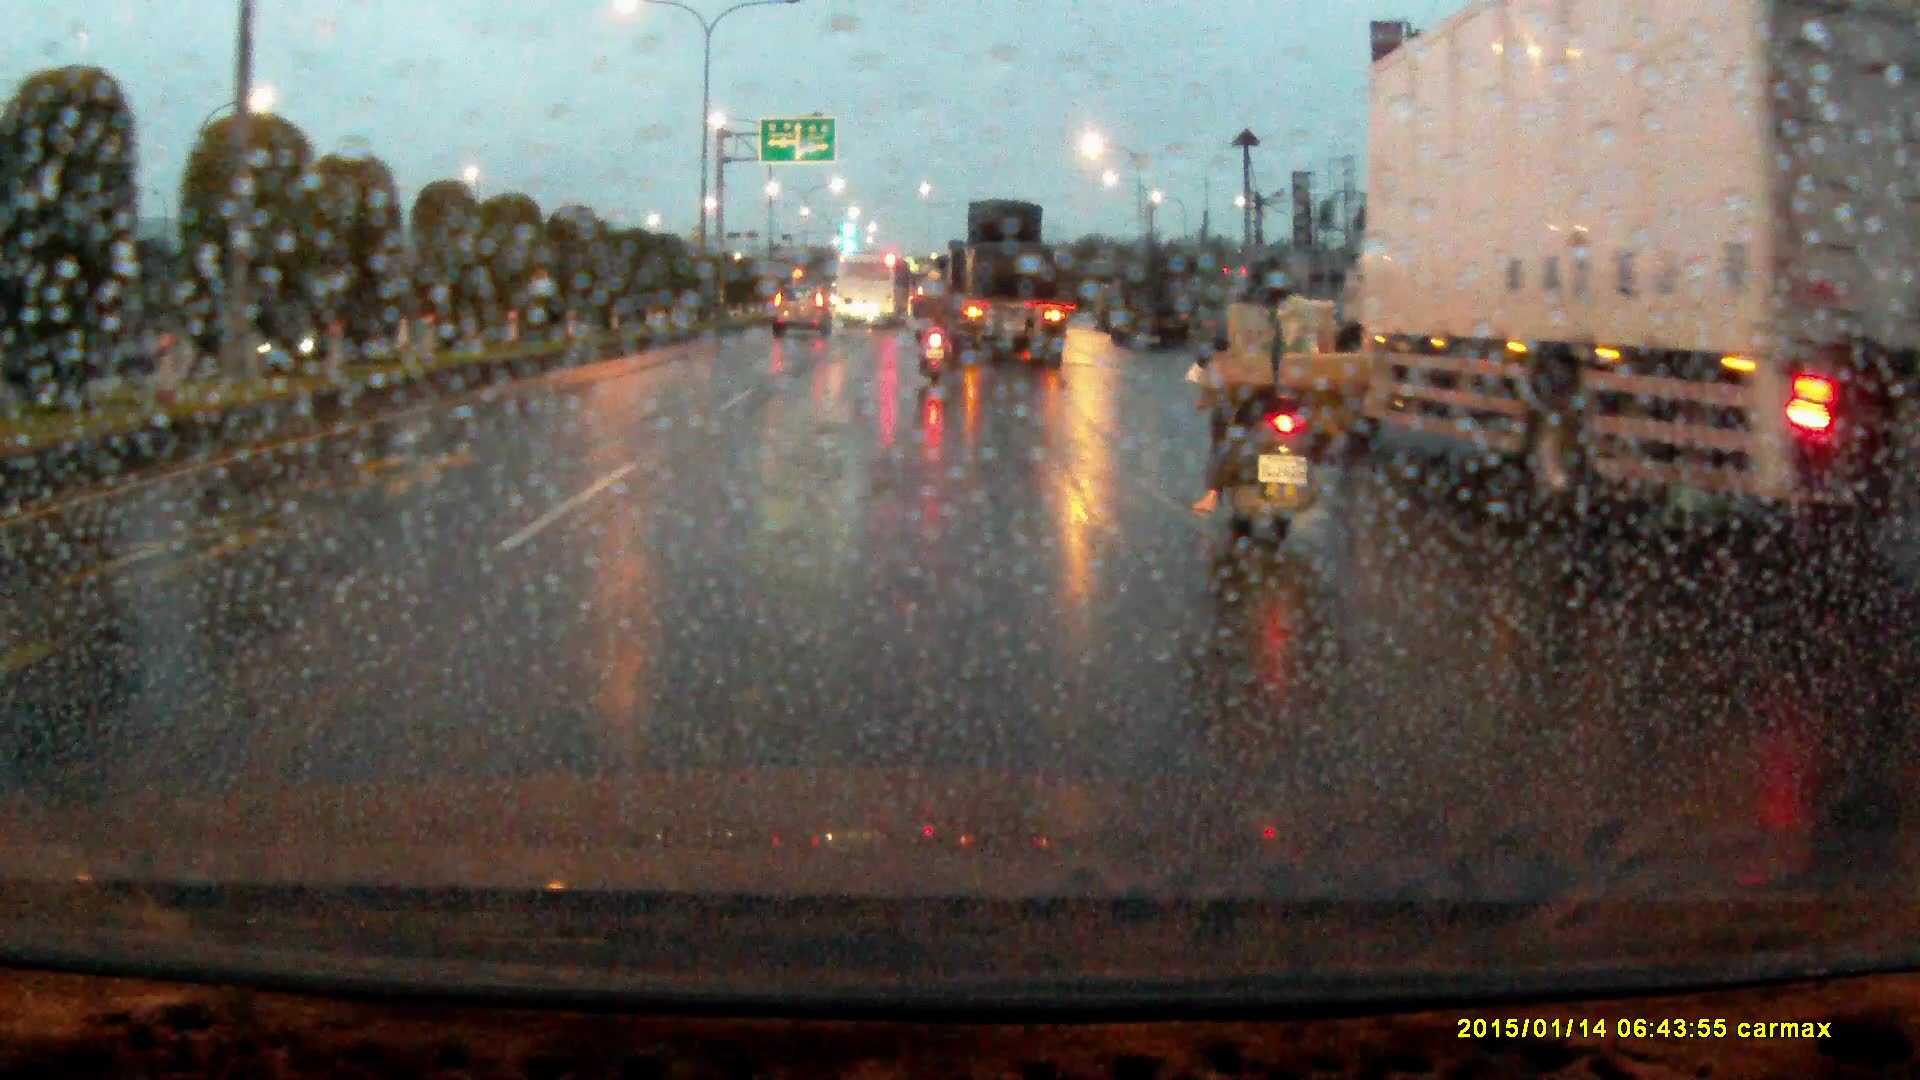rider: (1186, 253, 1378, 577), (912, 286, 955, 391)
vehicle: (1343, 1, 1920, 542), (927, 199, 1066, 368), (1108, 262, 1190, 353), (834, 252, 910, 331), (773, 285, 832, 341), (1092, 280, 1129, 335)
